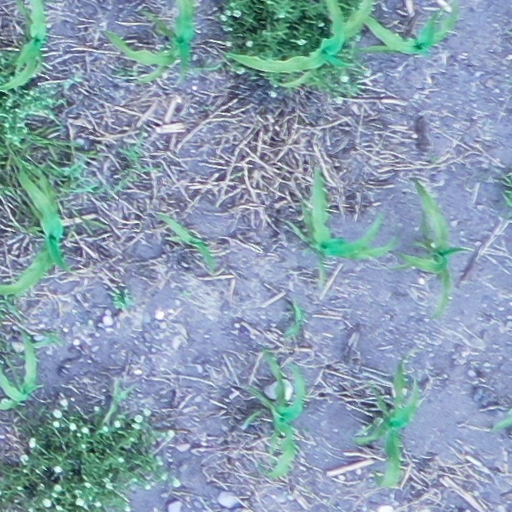planta: (395, 174, 472, 321), (288, 165, 399, 261), (349, 361, 418, 489), (246, 347, 304, 480), (153, 211, 215, 276)
